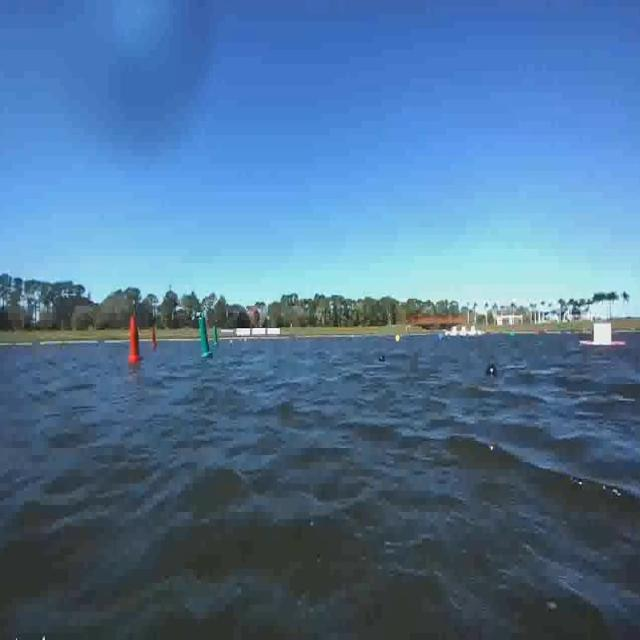black-buoy: (486, 360, 498, 376), (380, 353, 385, 362)
blue-buoy: (434, 334, 442, 347)
green-buoy: (282, 402, 292, 417)
green-column-buoy: (198, 320, 214, 360), (213, 328, 220, 348)
red-column-buoy: (128, 315, 143, 363), (150, 325, 158, 348)
yellow-buoy: (395, 334, 401, 346)
